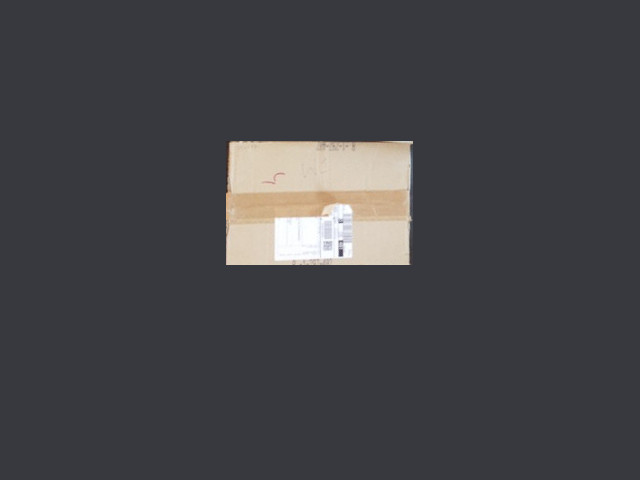cardboard: (230, 141, 411, 264)
